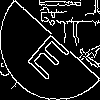E: (25, 25, 78, 81)
